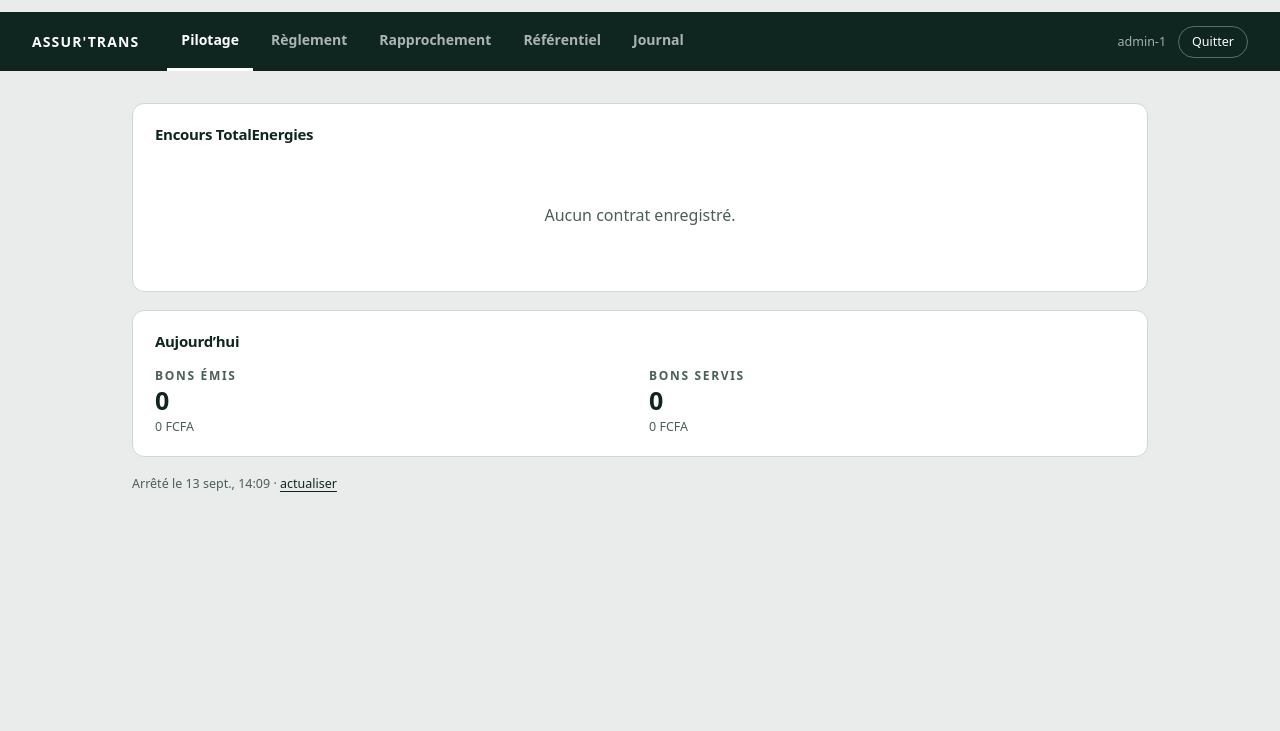
Test: ce qui ne colle pas › met les lignes à traiter en tête et masque les lettrées
Click the button "Rapprochement".
click(435, 42)  # box [365, 12, 505, 71]
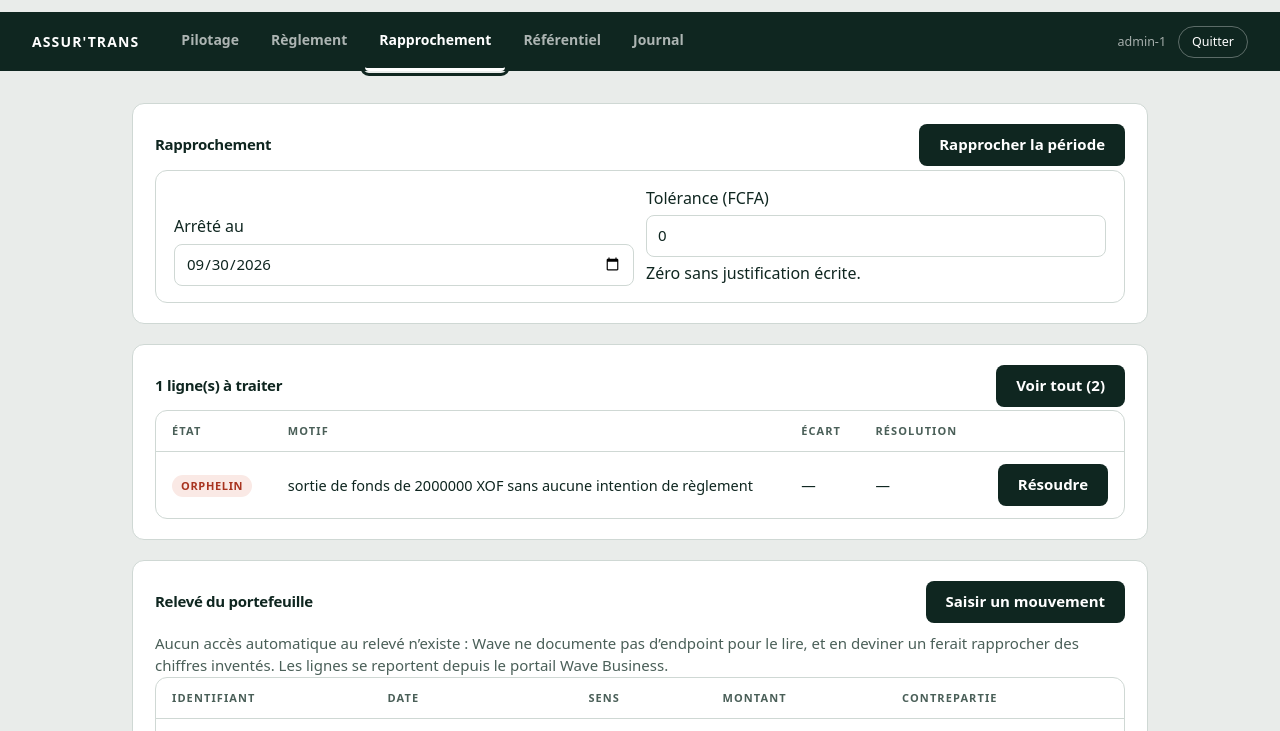
Check: the heading "1 ligne(s) à traiter" is shown, box [155, 375, 282, 396]
